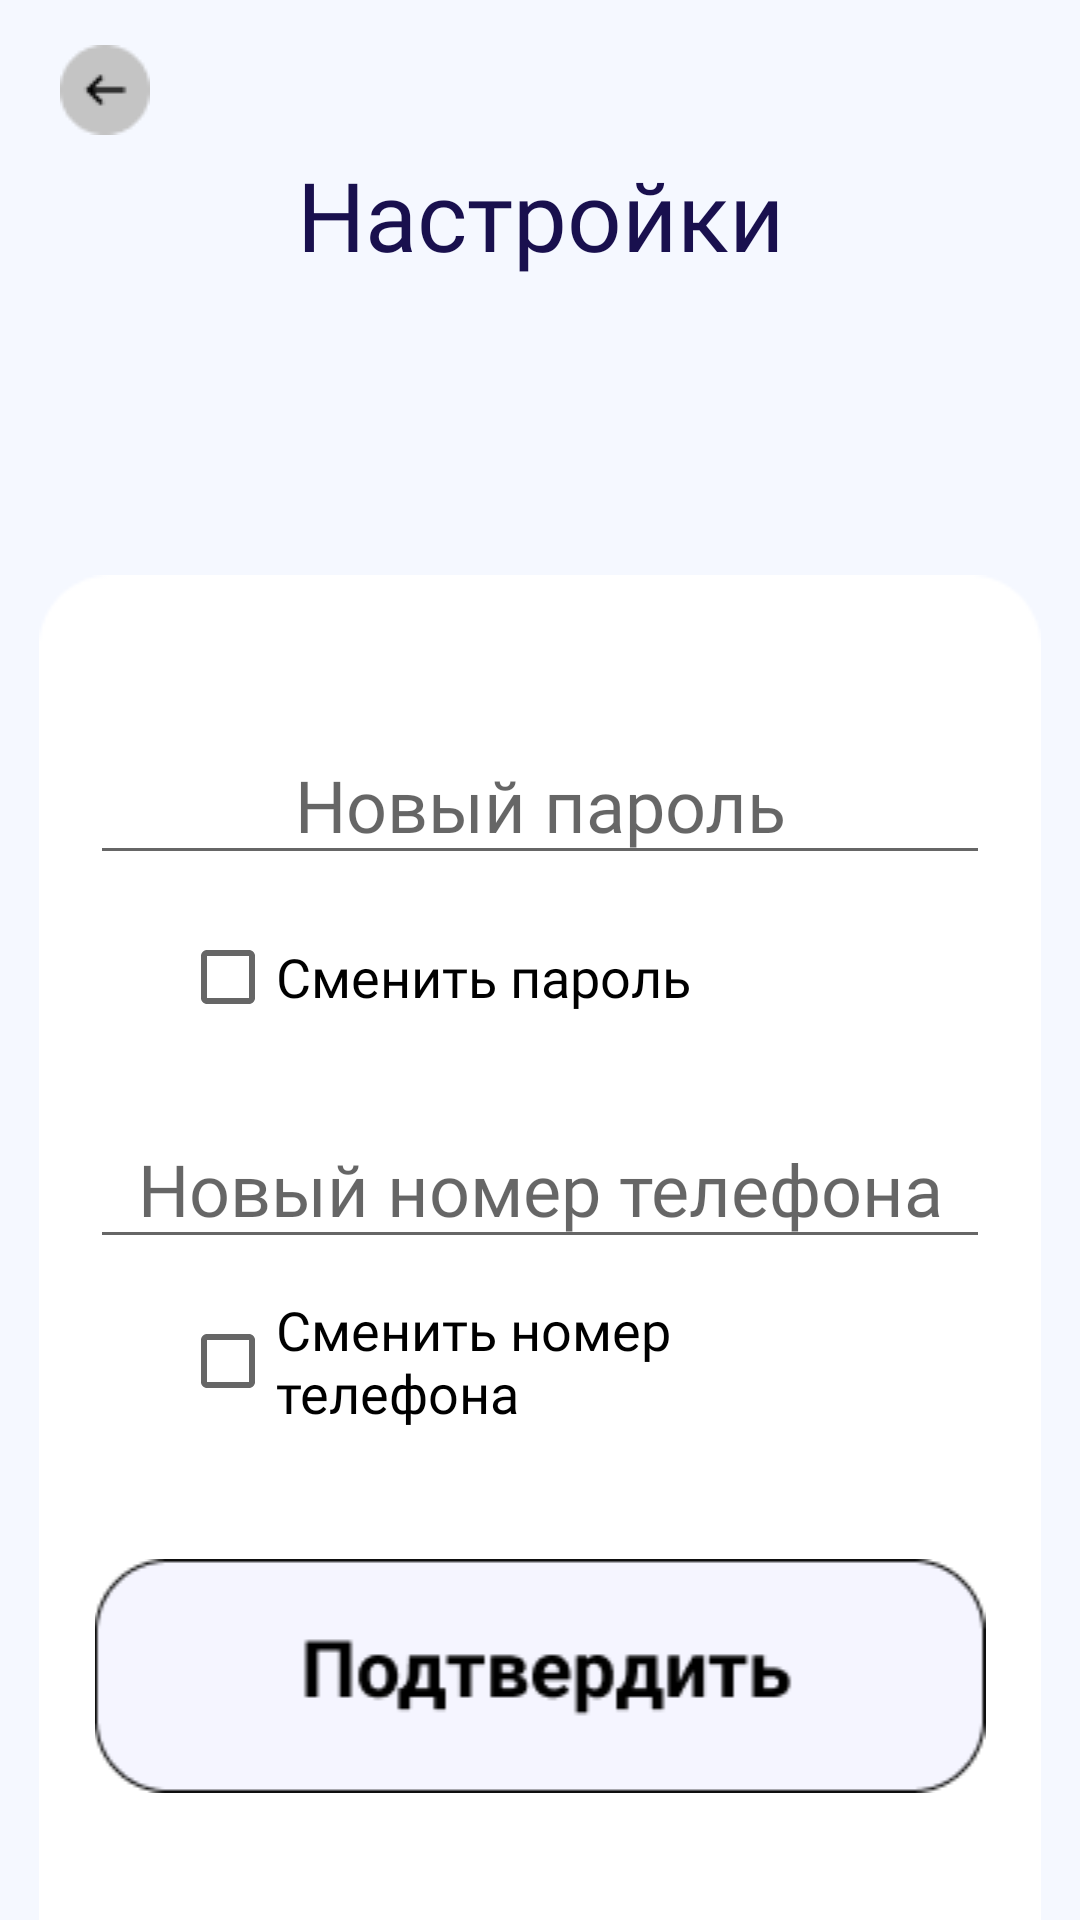

Icon bounding boxes for this 1080px x 1920px phone screenshot, format (x1, y1, x2, y2):
back butt: (60, 45, 150, 135)
